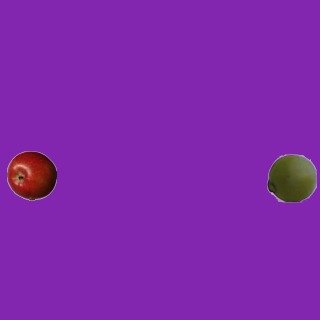Apple Braeburn: (6, 150, 56, 200)
Grape White 4: (266, 152, 316, 202)
